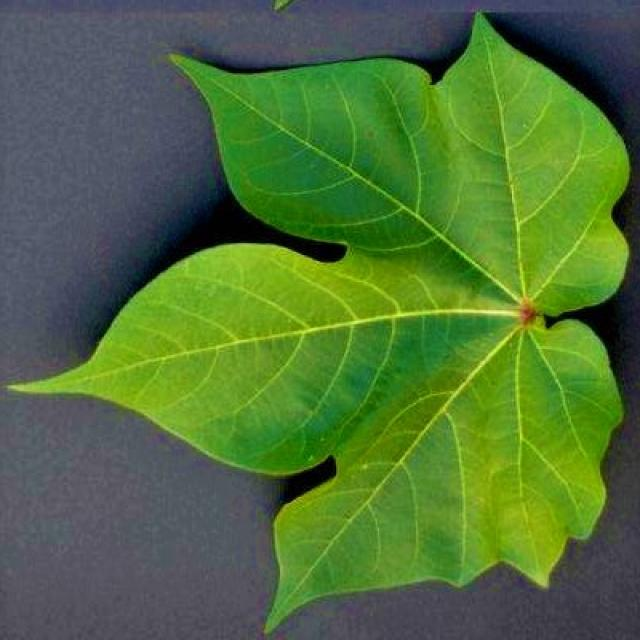Healthy Leaf: (28, 5, 640, 640)
